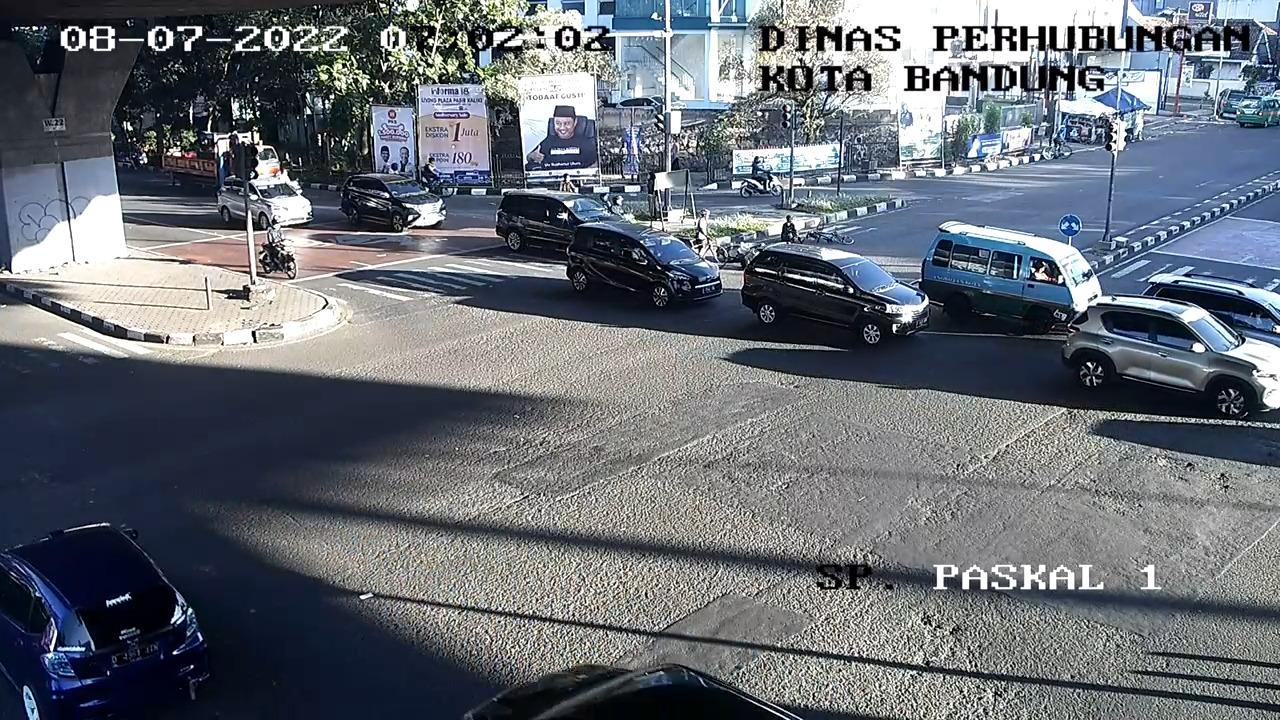accident: (767, 207, 808, 244)
